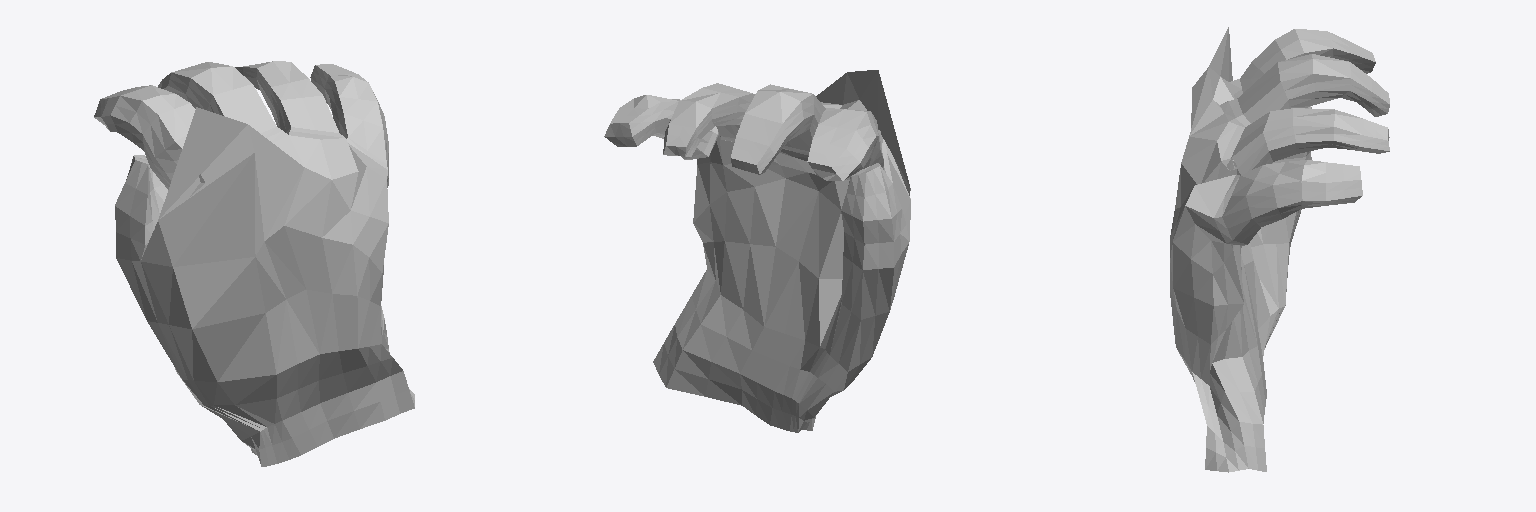
The model's file is hand_sub2_triang0044.obj.
3 renders of one model, left to right at view 1: azimuth 30°, elevation 25°; view 2: azimuth 150°, elevation 25°; view 3: azimuth 270°, elevation 25°, orthographic.
Visible parts, largest first — view 1: Hand; view 2: Hand; view 3: Hand.
Boxes of the visible parts, <box> form: Hand: <box>94,61,414,466</box>; Hand: <box>604,70,910,432</box>; Hand: <box>1170,27,1389,472</box>.
Bounding box in the file's own units: 2.8 × 3.79 × 2.01.